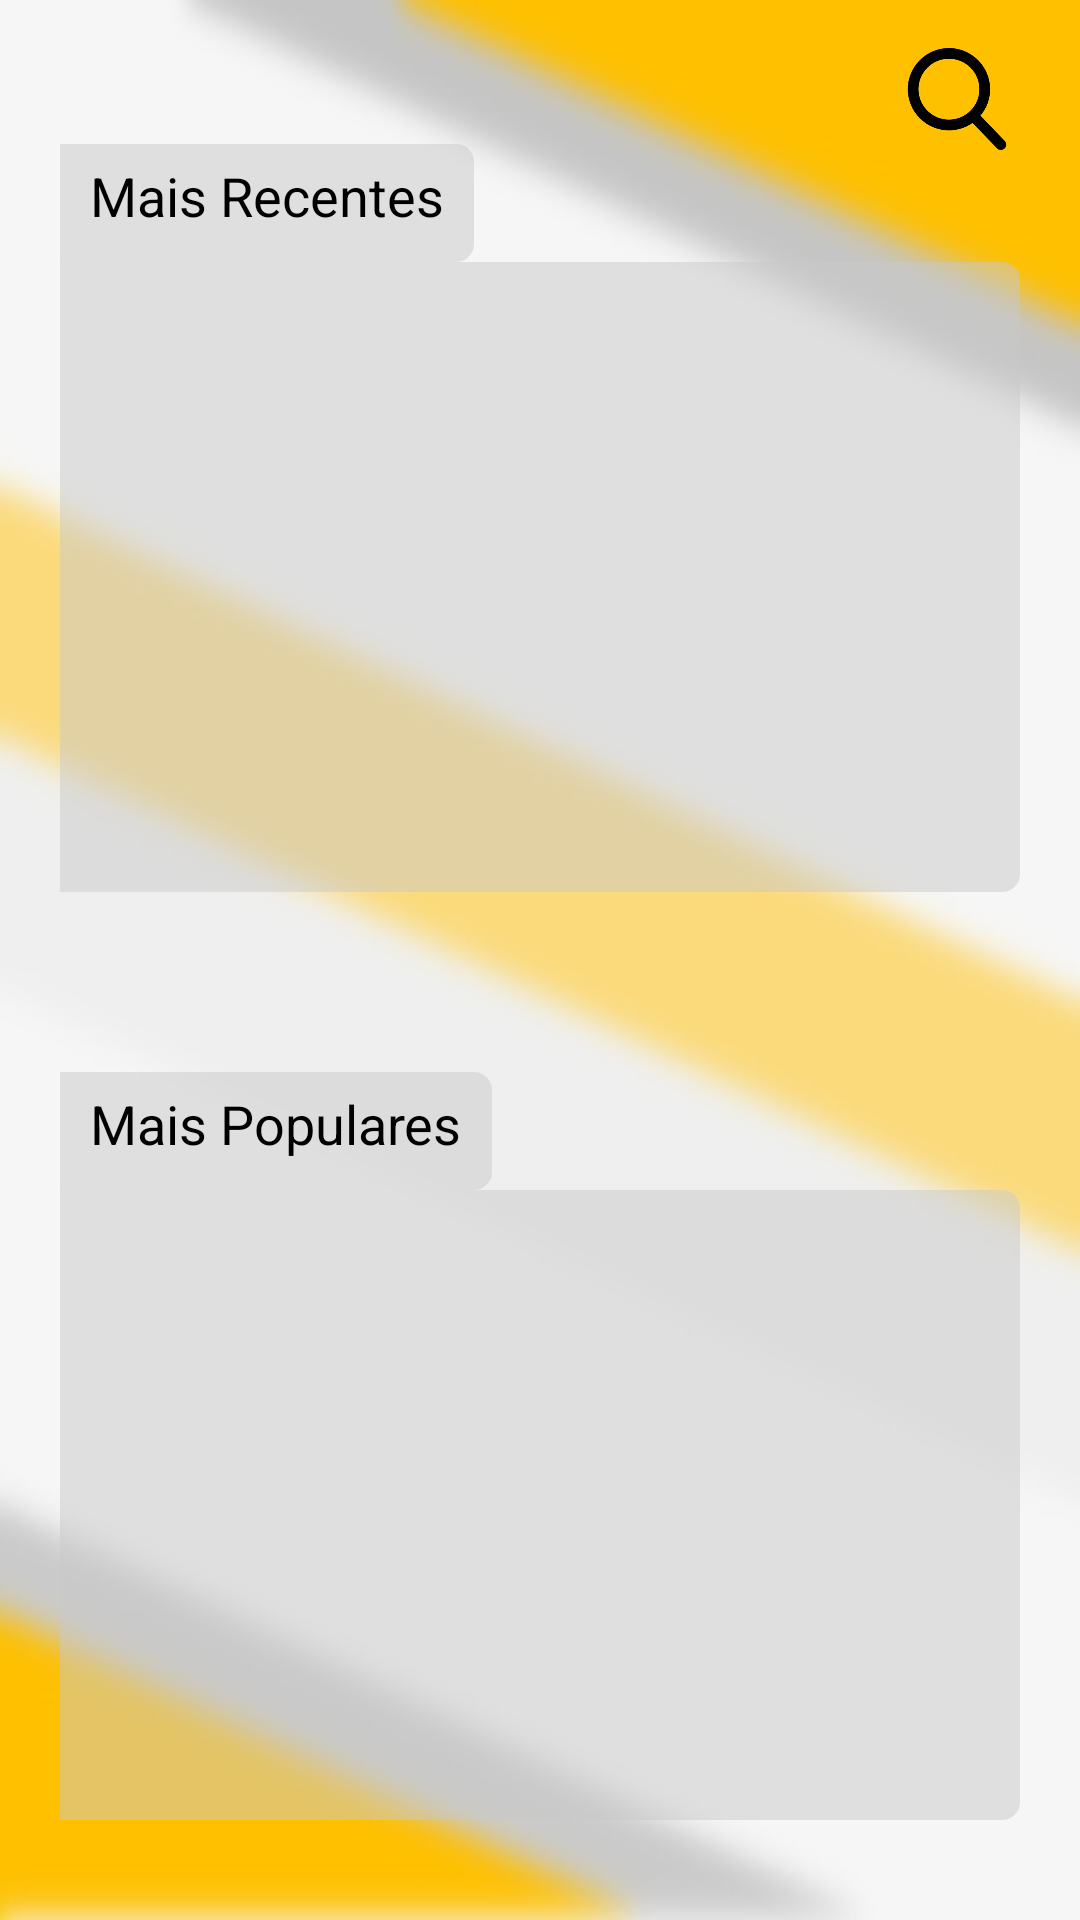

Locate icon controls on the screen. Image size 1080px x 1920px, boxes as Rect(x1, y1, x2, y2).
search: Rect(907, 48, 1007, 150)
